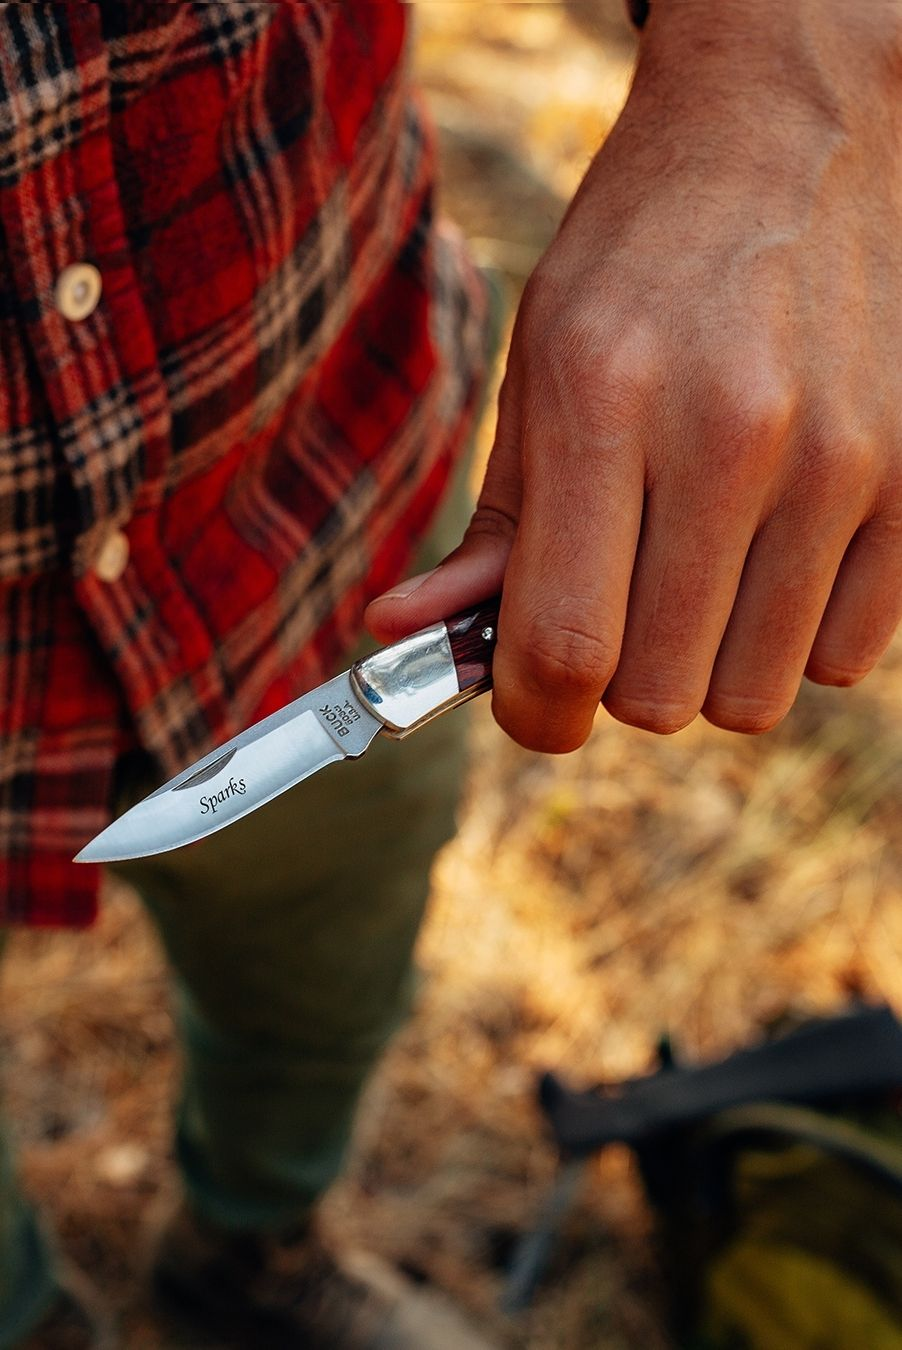knife: (61, 579, 561, 916)
